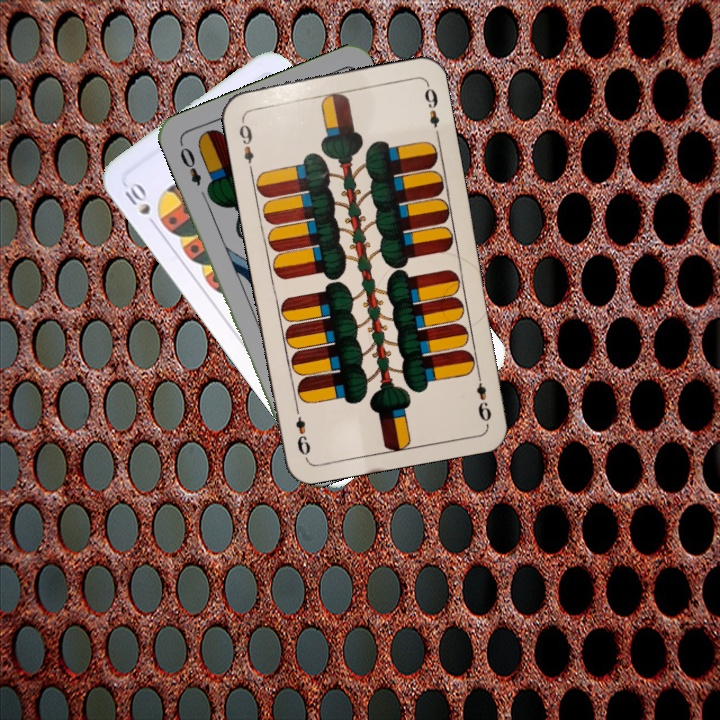E9: (472, 367, 494, 425), (235, 114, 256, 173)
EO: (176, 143, 204, 189)
S10: (120, 178, 161, 231)
